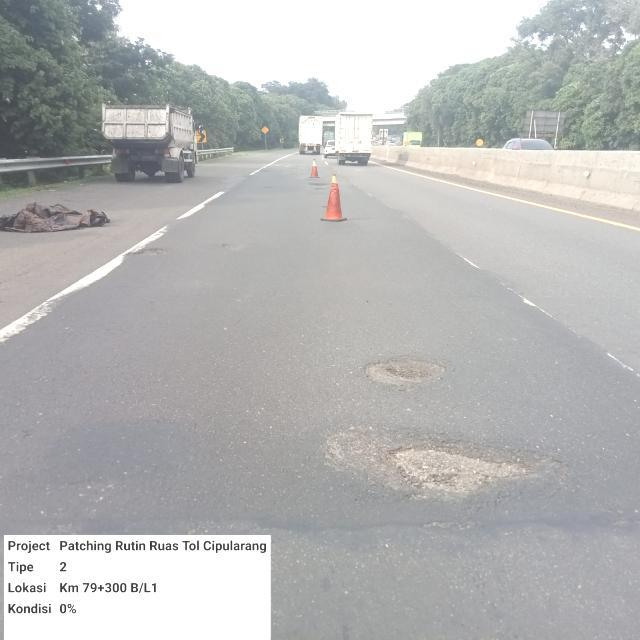Buraco: (376, 436, 542, 504), (360, 355, 451, 395), (123, 246, 171, 258)
